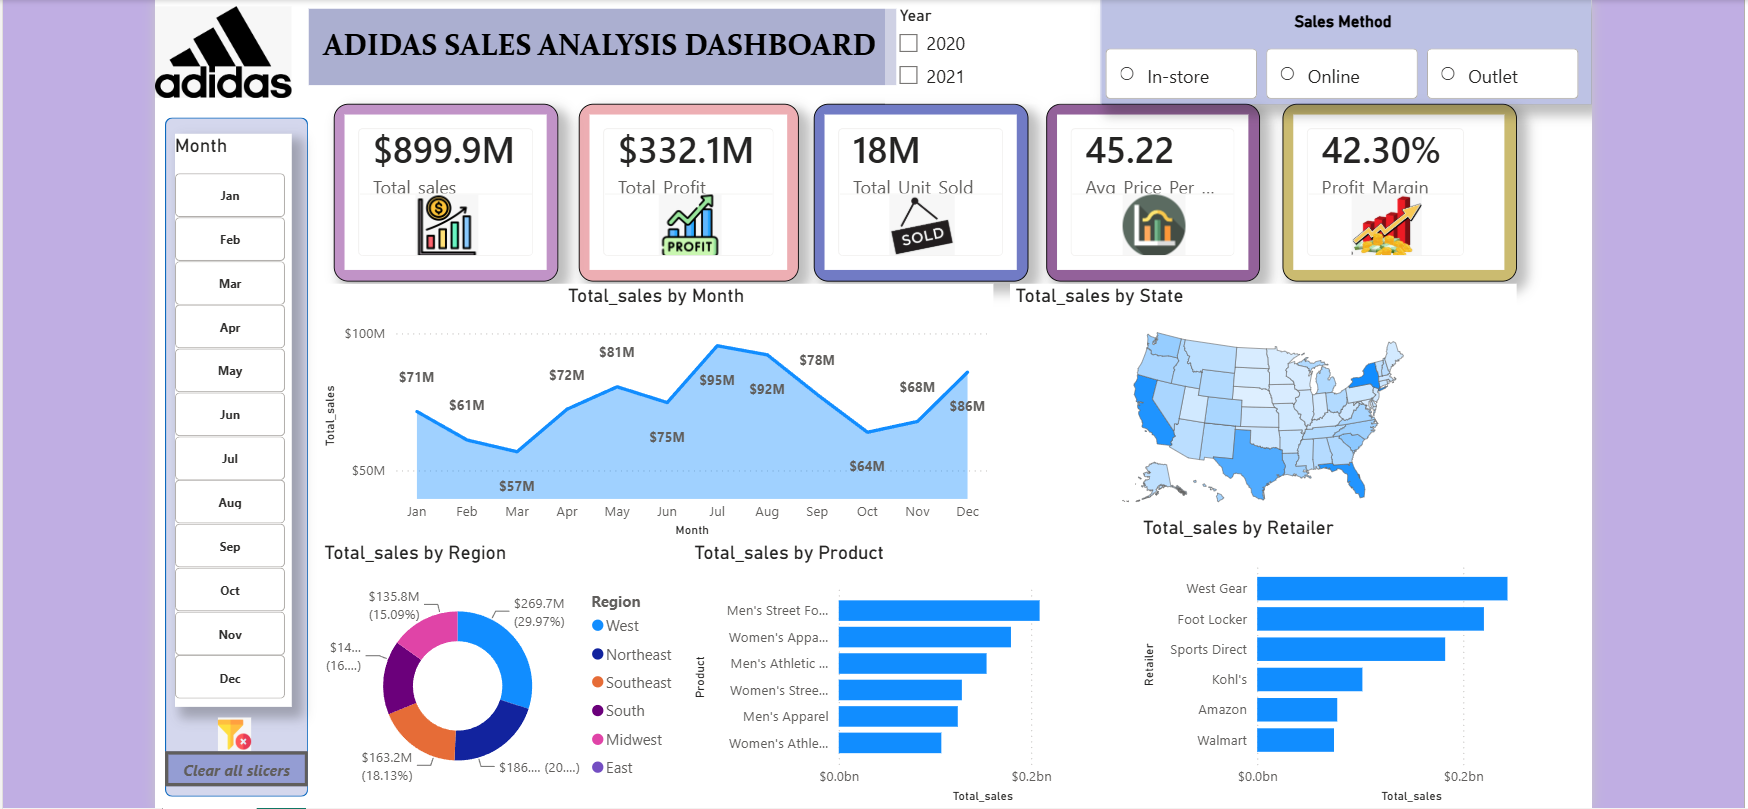

This screenshot's page, from the dashboard's own definition file:
{"tool":"powerbi","page":{"name":"Page 1","canvas":[1280,720],"ordinal":0},"visuals":[{"type":"cardVisual","fields":{"Data":["Data Sales Adidas (2).Total_Profit"]},"box":[377.5,92.5,196.2,158.8],"z":0},{"type":"cardVisual","fields":{"Data":["Data Sales Adidas (2).Total_Unit_Sold"]},"box":[586.2,92.5,191.2,158.8],"z":1000},{"type":"cardVisual","fields":{"Data":["Data Sales Adidas (2).Avg_Price_Per_Unit"]},"box":[793.8,92.5,190,158.8],"z":2000},{"type":"cardVisual","fields":{"Data":["Data Sales Adidas (2).Profit_Margin"]},"box":[1003.8,92.5,208.8,158.8],"z":3000},{"type":"cardVisual","fields":{"Data":["Data Sales Adidas (2).Total_sales"]},"box":[158.8,92.5,200,158.8],"z":4000},{"type":"image","box":[0,0,121.2,92.5],"z":5000},{"type":"textbox","box":[136.9,7.8,523.2,67.9],"z":6000},{"type":"shape","box":[8.8,105,127.5,605],"z":7000},{"type":"areaChart","fields":{"Y":["Data Sales Adidas (2).Total_sales"],"Category":["Data Sales Adidas (2).Month"]},"box":[146,252.1,600.8,230.4],"z":8000},{"type":"shapeMap","fields":{"Category":["Data Sales Adidas (2).State"],"Value":["Data Sales Adidas (2).Total_sales"]},"box":[761.3,252.1,451.2,207.5],"z":9000},{"type":"donutChart","fields":{"Category":["Data Sales Adidas (2).Region"],"Y":["Data Sales Adidas (2).Total_sales"]},"box":[146.2,482.5,328.8,227.5],"z":10000},{"type":"clusteredBarChart","fields":{"Category":["Data Sales Adidas (2).Product"],"Y":["Data Sales Adidas (2).Total_sales"]},"box":[475,482.5,413.8,237.5],"z":11000},{"type":"clusteredBarChart","fields":{"Y":["Data Sales Adidas (2).Total_sales"],"Category":["Data Sales Adidas (2).Retailer"]},"box":[875,460,405,260],"z":12000},{"type":"advancedSlicerVisual","fields":{"Values":["Data Sales Adidas (2).Sales Method"]},"box":[842.1,0,437.9,92.9],"z":13000},{"type":"slicer","fields":{"Values":["Data Sales Adidas (2).Invoice Date.Variation.Date Hierarchy.Year"]},"box":[650,0,192.5,92.5],"z":14000},{"type":"advancedSlicerVisual","fields":{"Values":["Data Sales Adidas (2).Month"]},"box":[17.5,118.8,103.8,510],"z":15000},{"type":"image","box":[20,638.8,101.2,30],"z":16000},{"type":"actionButton","box":[8.8,668.8,127.5,31.2],"z":17000}]}

Visuals, with their boxes in screenshot pixels (x1, y1, x2, y2):
cardVisual - Data Sales Adidas (2).Total_Profit: box(580, 97, 806, 280)
cardVisual - Data Sales Adidas (2).Total_Unit_Sold: box(820, 97, 1040, 280)
cardVisual - Data Sales Adidas (2).Avg_Price_Per_Unit: box(1059, 97, 1278, 280)
cardVisual - Data Sales Adidas (2).Profit_Margin: box(1301, 97, 1541, 280)
cardVisual - Data Sales Adidas (2).Total_sales: box(328, 97, 559, 280)
image: box(146, 0, 285, 97)
textbox: box(303, 0, 905, 78)
shape: box(156, 112, 302, 808)
areaChart - Data Sales Adidas (2).Total_sales x Data Sales Adidas (2).Month: box(314, 281, 1005, 546)
shapeMap - Data Sales Adidas (2).State x Data Sales Adidas (2).Total_sales: box(1022, 281, 1541, 520)
donutChart - Data Sales Adidas (2).Region x Data Sales Adidas (2).Total_sales: box(314, 546, 692, 808)
clusteredBarChart - Data Sales Adidas (2).Product x Data Sales Adidas (2).Total_sales: box(692, 546, 1168, 808)
clusteredBarChart - Data Sales Adidas (2).Total_sales x Data Sales Adidas (2).Retailer: box(1152, 520, 1618, 808)
advancedSlicerVisual - Data Sales Adidas (2).Sales Method: box(1115, 0, 1618, 98)
slicer - Data Sales Adidas (2).Invoice Date.Variation.Date Hierarchy.Year: box(894, 0, 1115, 97)
advancedSlicerVisual - Data Sales Adidas (2).Month: box(166, 128, 285, 714)
image: box(169, 726, 285, 760)
actionButton: box(156, 760, 302, 796)
